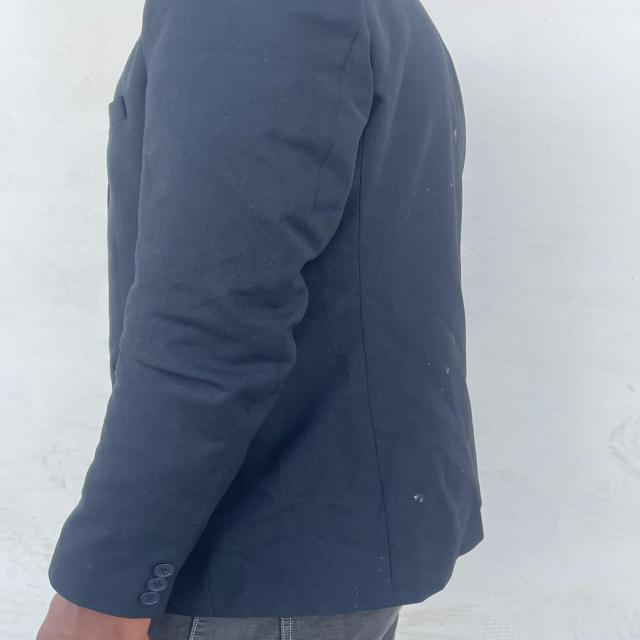uniform: (47, 0, 485, 624)
